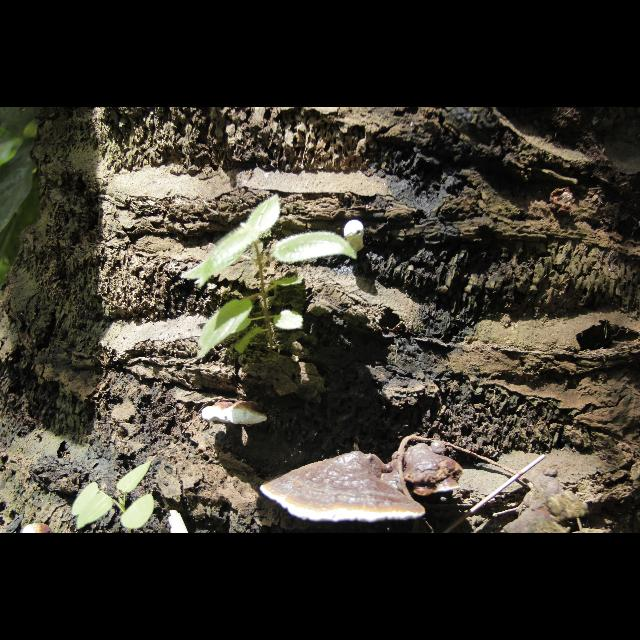ganoderma: (261, 451, 427, 525), (393, 442, 465, 499), (202, 401, 269, 427)
primordium: (344, 221, 365, 253)
